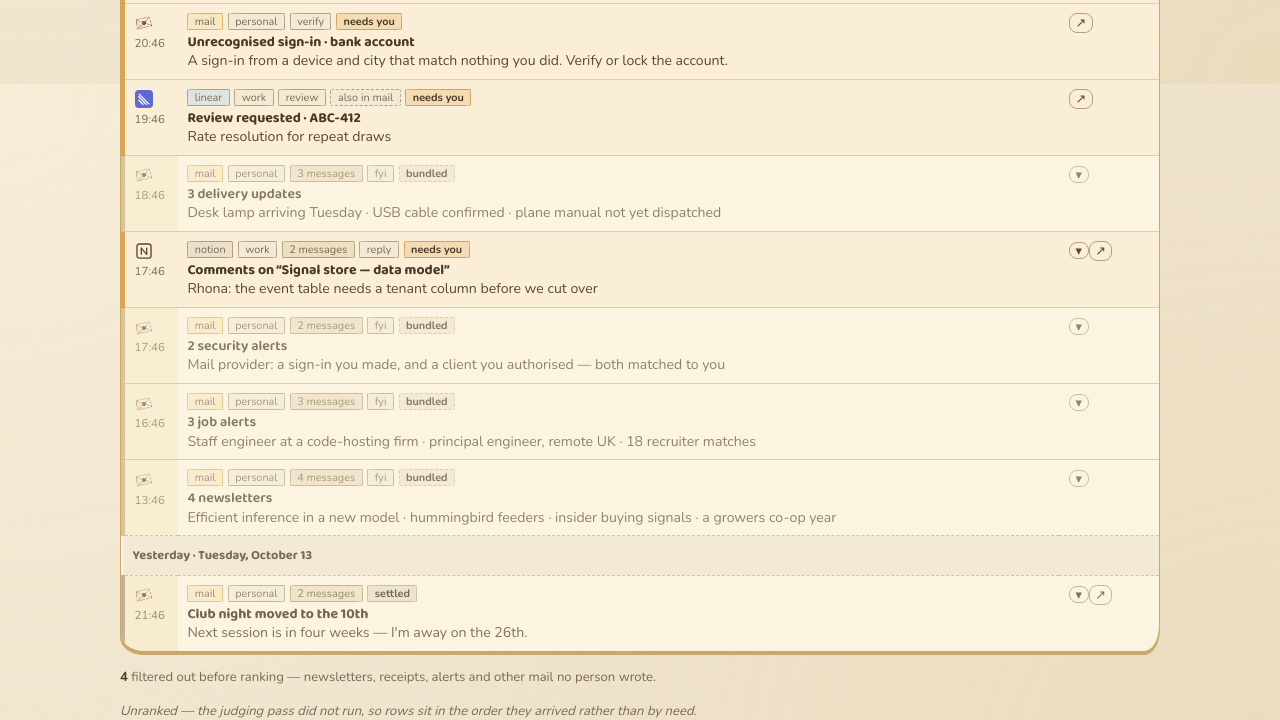
Test: AlmonerPage › does not claim a conversation nobody had, inside a rollup
(page scrolled)
Click the button named "Show 4 messages in 4 newsletters".
click(1079, 479)  # box [1069,470,1088,487]
(page scrolled)
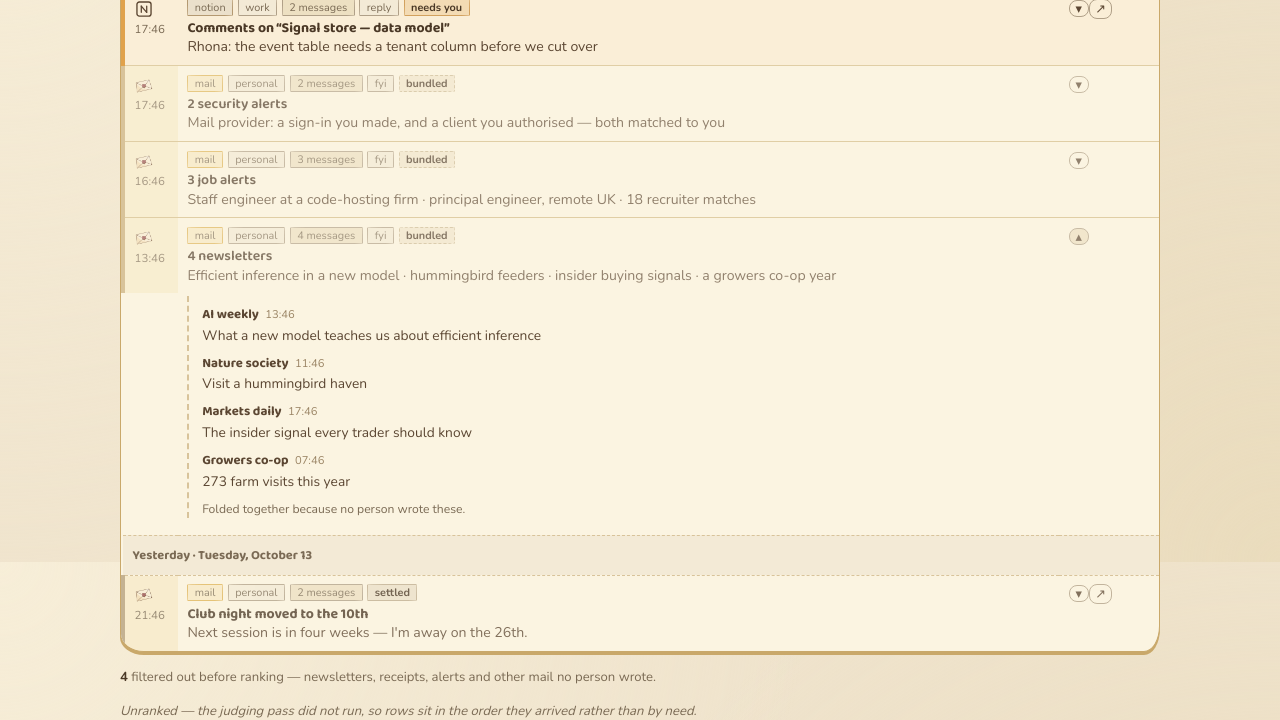
Now the text "Folded together because no person wrote these." is shown, box [202,500,465,516]
